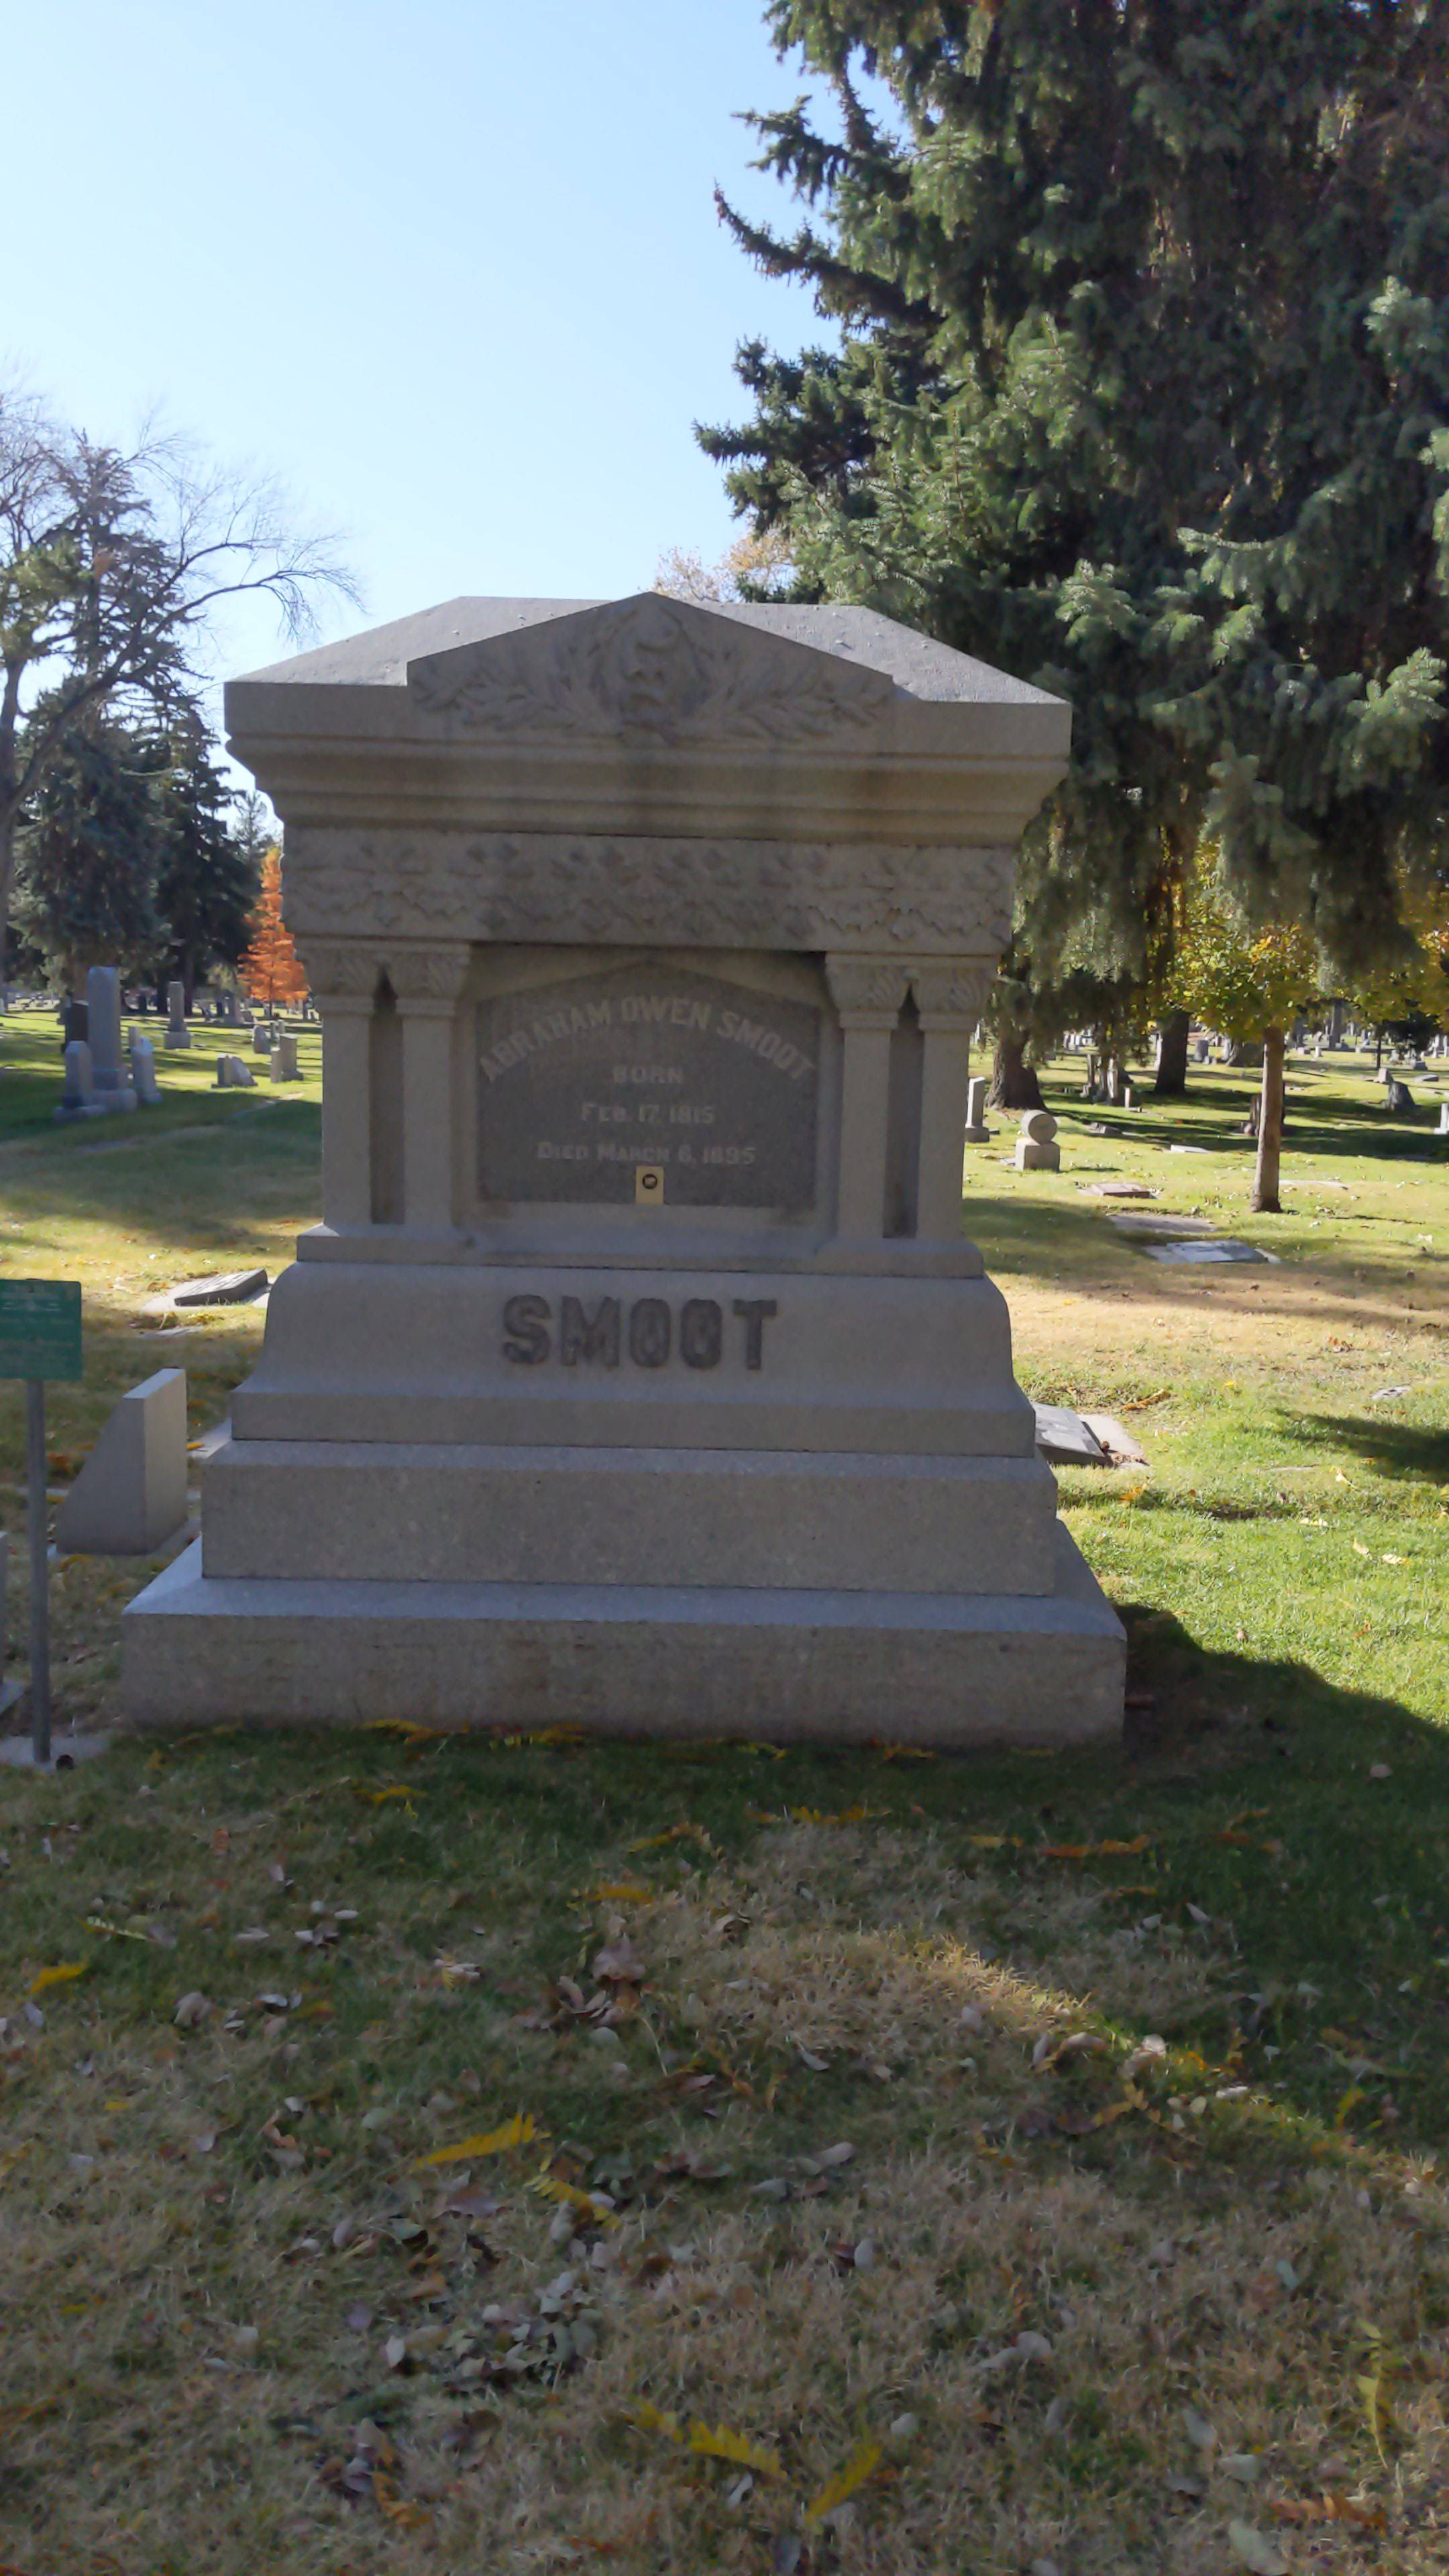mausoleum: (133, 587, 1118, 1743)
